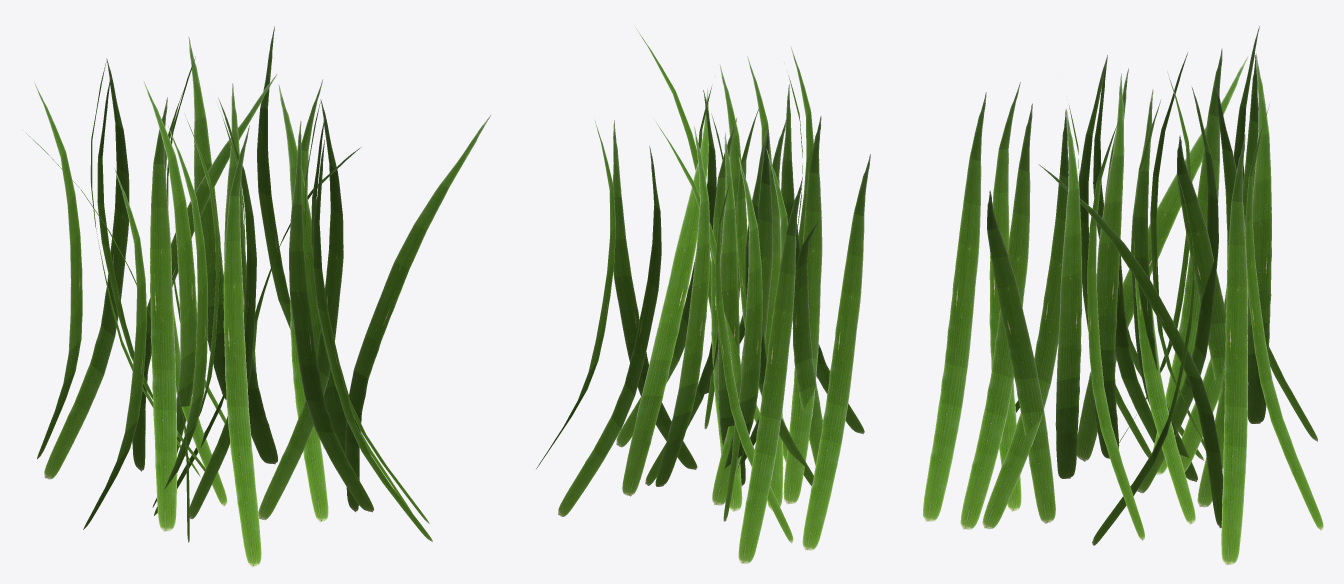
File: grass.fbx
3 views of the same model, side by side, from view 1: azimuth 30°, elevation 25°; view 2: azimuth 150°, elevation 25°; view 3: azimuth 270°, elevation 25° (orthographic). The views are drawn at different scales.
Parts seen in each view (by area): view 1: Empty.012, Empty.015, Empty.021, Empty.038, Empty.029, Empty.028, Empty.032, Empty.005, Empty.035, Empty.011, Empty.013, Empty.020 (+13 smaller); view 2: Empty.020, Empty.035, Empty.009, Empty.001, Empty.013, Empty.005, Empty.033, Empty.010, Empty.006, Empty.019, Empty.032, Empty.038 (+14 smaller); view 3: Empty.026, Empty.007, Empty.024, Empty.028, Empty.029, Empty.023, Empty.011, Empty.038, Empty.009, Empty.005, Empty.027, Empty.039 (+15 smaller).
Part boxes in pixels (box(x1,y1,x2,y2)): Empty.012: box(150, 97, 177, 531); Empty.015: box(223, 125, 261, 567); Empty.021: box(289, 121, 373, 512); Empty.038: box(44, 58, 129, 479); Empty.029: box(345, 115, 490, 512); Empty.028: box(258, 99, 343, 519); Empty.032: box(143, 81, 197, 453); Empty.005: box(188, 37, 226, 399); Empty.035: box(34, 81, 82, 459); Empty.011: box(189, 97, 256, 518); Empty.013: box(154, 126, 208, 515); Empty.020: box(83, 167, 146, 529); Empty.020: box(802, 154, 870, 550); Empty.035: box(738, 179, 802, 563); Empty.009: box(622, 87, 709, 496); Empty.001: box(655, 126, 710, 486); Empty.013: box(783, 116, 822, 504); Empty.005: box(558, 146, 661, 516); Empty.033: box(724, 157, 762, 472); Empty.010: box(613, 120, 697, 469); Empty.006: box(718, 132, 745, 486); Empty.019: box(792, 217, 822, 465); Empty.032: box(712, 129, 773, 505); Empty.038: box(715, 178, 793, 543); Empty.026: box(923, 92, 986, 521); Empty.007: box(1221, 134, 1248, 565); Empty.024: box(960, 103, 1032, 529); Empty.028: box(1055, 108, 1082, 478); Empty.029: box(987, 190, 1055, 523); Empty.023: box(982, 110, 1068, 528); Empty.011: box(1092, 73, 1124, 458); Empty.038: box(1247, 53, 1271, 423); Empty.009: box(1038, 164, 1222, 528); Empty.005: box(1245, 104, 1323, 530); Empty.027: box(1087, 109, 1144, 541); Empty.039: box(1177, 135, 1225, 401).
Bounding box in the file's own units: 421 × 530 × 445.
